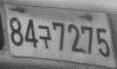2: (67, 23, 83, 52)
4: (24, 18, 38, 48)
5: (95, 27, 110, 58)
7: (51, 21, 64, 51), (80, 25, 93, 55)
8: (9, 16, 23, 46)
구: (38, 24, 52, 49)
